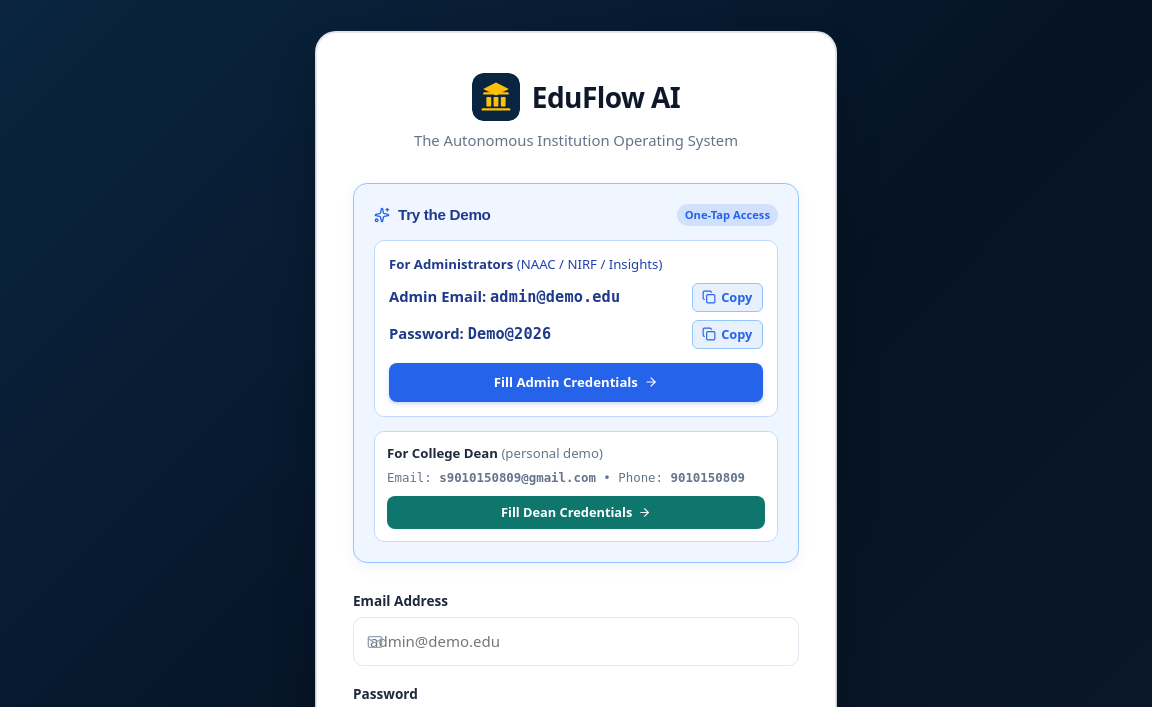
Test: LoginPage Component › Clicking "Fill Dean Credentials" populates email with s9010150809@gmail.com
The image size is (1152, 707).
Step 1. Click the button "Fill Dean Credentials" → (576, 513), box [387,496,765,530]
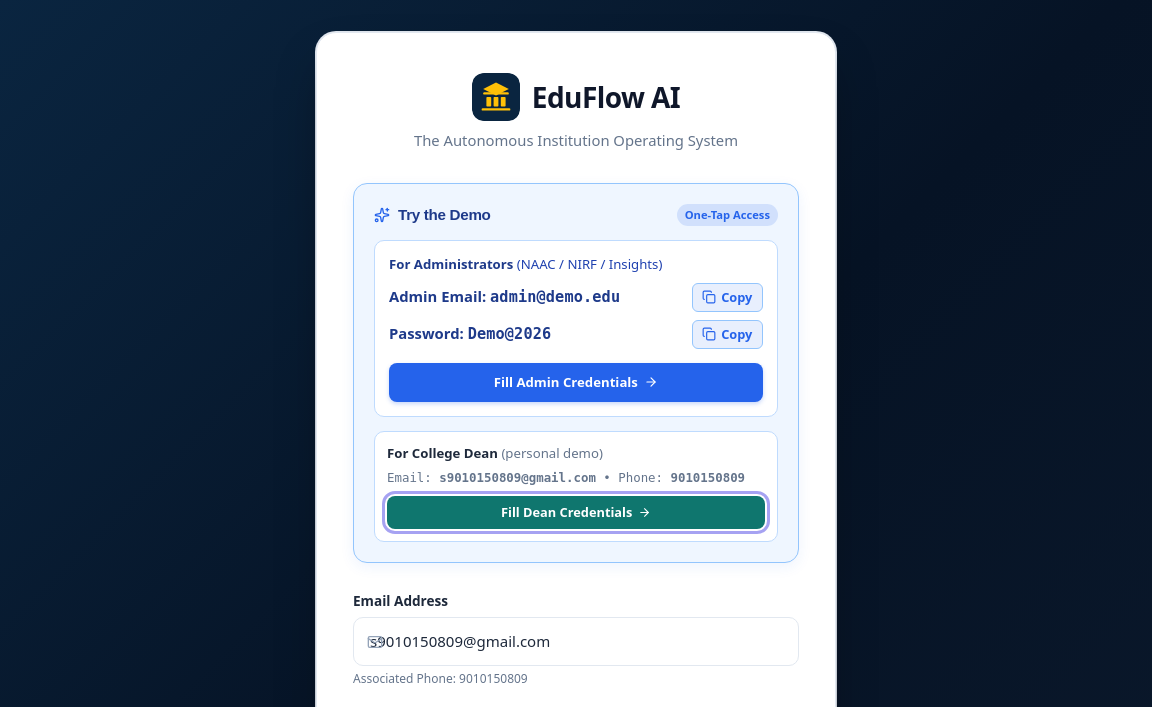
Result: the field labelled "Email Address" holds "s9010150809@gmail.com" at [353,618,799,666]
